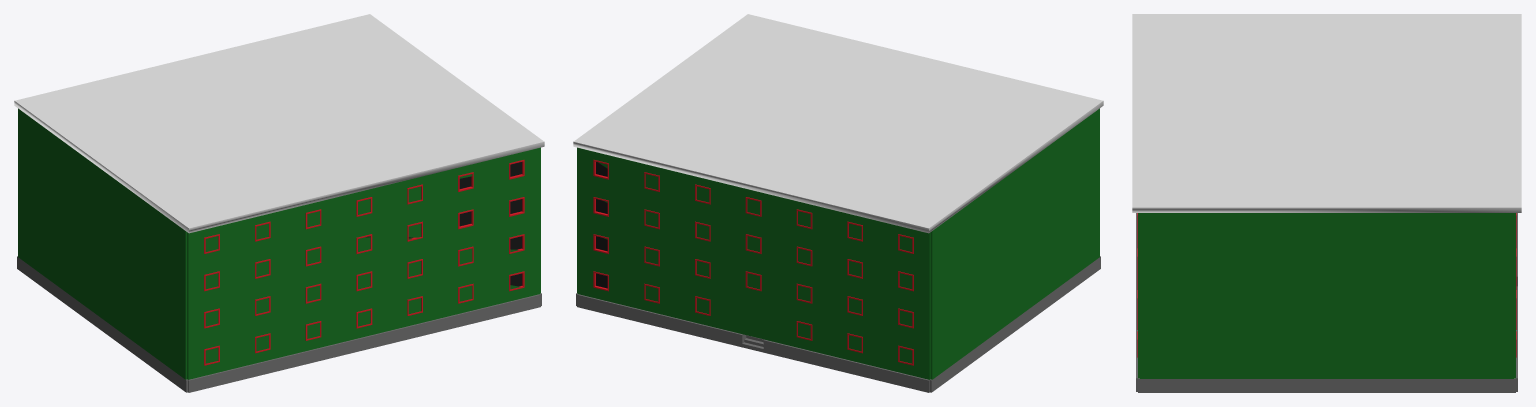
3 renders of one model, left to right at view 1: azimuth 30°, elevation 25°; view 2: azimuth 150°, elevation 25°; view 3: azimuth 270°, elevation 25°, orthographic. The views are drawn at different scales.
Parts seen in each view (by area): view 1: BR30_F04_01; view 2: BR30_F04_01; view 3: BR30_F04_01.
Boxes of the visible parts, x1,y1,x2,y2 form: BR30_F04_01: (14,14,544,392); BR30_F04_01: (573,14,1103,392); BR30_F04_01: (1132,14,1521,392).
Size of the model in its own units: 3000 by 1340 by 2550.
